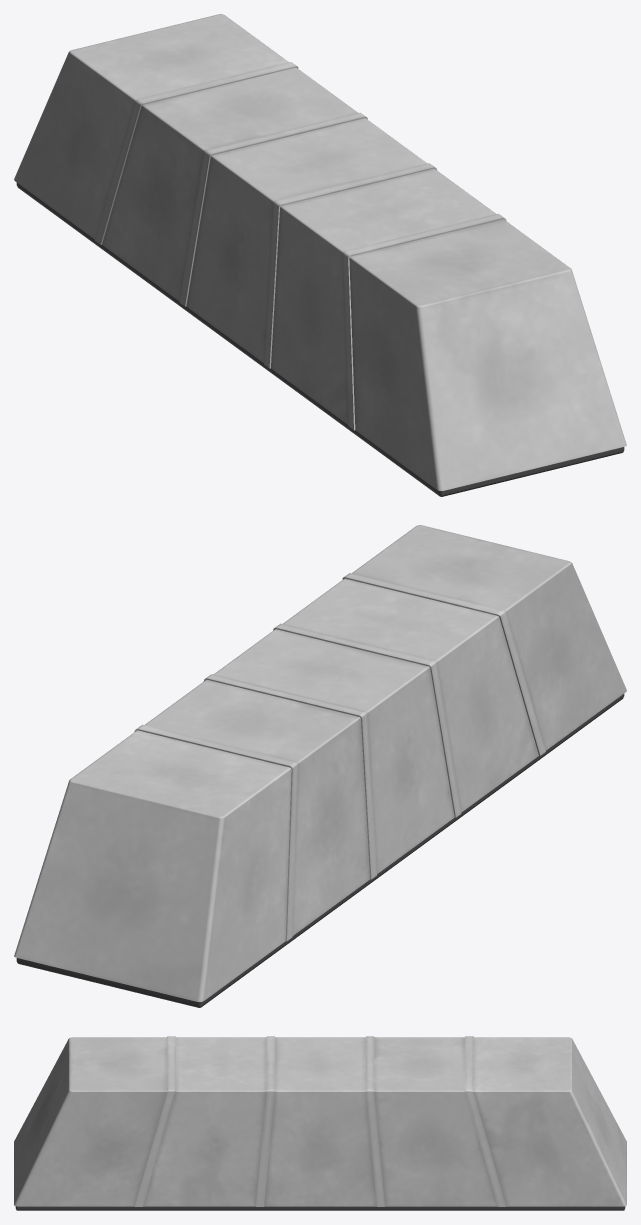
The model's file is whiteboard_eraser.glb.
3 renders of one model, top to bottom at view 1: azimuth 30°, elevation 25°; view 2: azimuth 150°, elevation 25°; view 3: azimuth 270°, elevation 25°, orthographic. The views are drawn at different scales.
Parts seen in each view (by area): view 1: Eraser_HP, Eraser; view 2: Eraser_HP, Eraser; view 3: Eraser_HP, Eraser.
Part boxes in pixels (box(x1,y1,x2,y2)): Eraser_HP: box(14, 14, 626, 490); Eraser: box(16, 183, 624, 496); Eraser_HP: box(14, 525, 626, 1001); Eraser: box(16, 694, 624, 1007); Eraser_HP: box(14, 1036, 626, 1206); Eraser: box(15, 1206, 625, 1210).
Size of the model in its own units: 6.84 by 5.51 by 26.36.
Materials: 2 (2 with a texture image).
